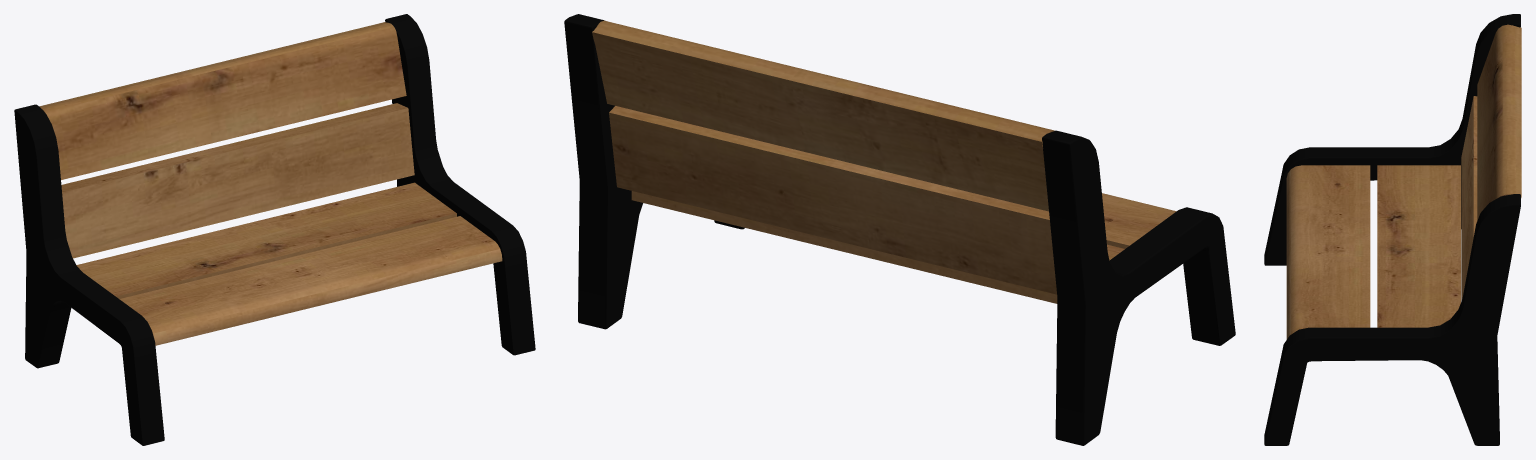
Rendered from esya_bank.glb.
The picture shows the model from 3 angles, left to right: view 1: azimuth 30°, elevation 25°; view 2: azimuth 150°, elevation 25°; view 3: azimuth 270°, elevation 25°; orthographic projection. The views are drawn at different scales.
Parts seen in each view (by area): view 1: Bench.002; view 2: Bench.002; view 3: Bench.002.
Boxes of the visible parts, left/top/right/bottom form: Bench.002: left=14, top=14, right=535, bottom=445; Bench.002: left=564, top=14, right=1235, bottom=445; Bench.002: left=1264, top=14, right=1521, bottom=445.
Bounding box in the file's own units: 1.35 × 0.799 × 0.7688.
Materials: 2 (1 with a texture image).
